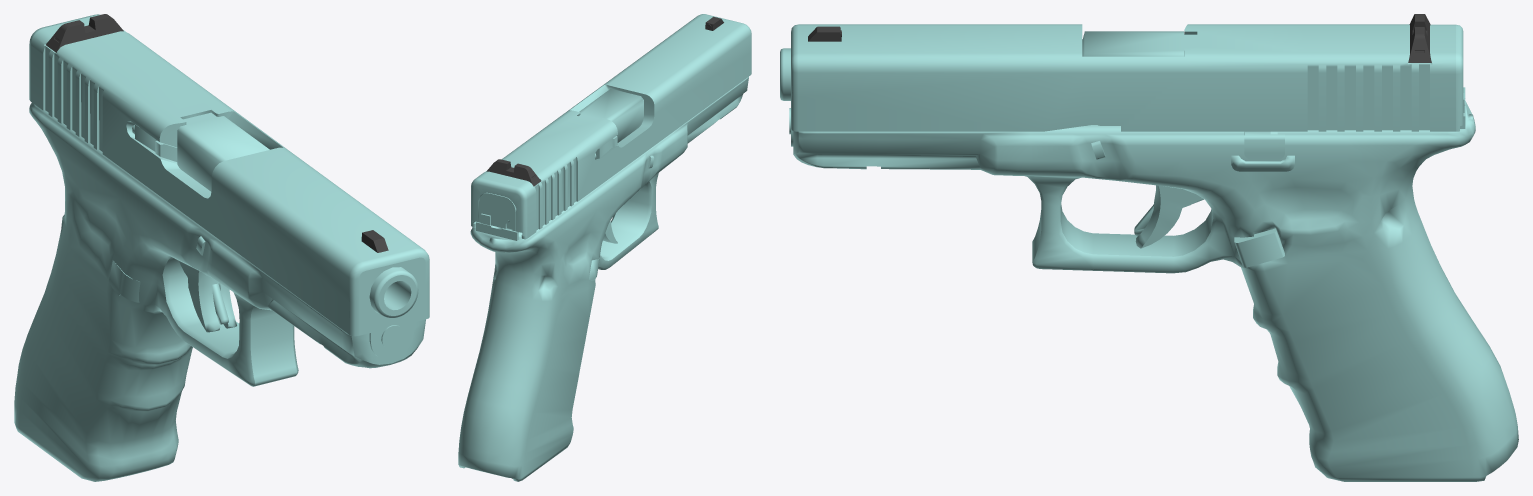
File: Glock17 New USights.fbx
The picture shows the model from 3 angles, left to right: view 1: azimuth 30°, elevation 25°; view 2: azimuth 150°, elevation 25°; view 3: azimuth 270°, elevation 25°; orthographic projection. The views are drawn at different scales.
Parts seen in each view (by area): view 1: glock_frame, glock_slide.002, nightsights_high; view 2: glock_frame, glock_slide.002, nightsights_high; view 3: glock_frame, glock_slide.002, nightsights_high.
Part boxes in pixels (box(x1,y1,x2,y2)): glock_frame: box(14, 102, 425, 481); glock_slide.002: box(29, 14, 429, 359); nightsights_high: box(46, 14, 388, 252); glock_frame: box(458, 77, 748, 481); glock_slide.002: box(471, 14, 751, 239); nightsights_high: box(486, 16, 723, 186); glock_frame: box(793, 87, 1518, 481); glock_slide.002: box(780, 24, 1463, 146); nightsights_high: box(808, 14, 1431, 62).
Size of the model in its own units: 140 by 580 by 893.
